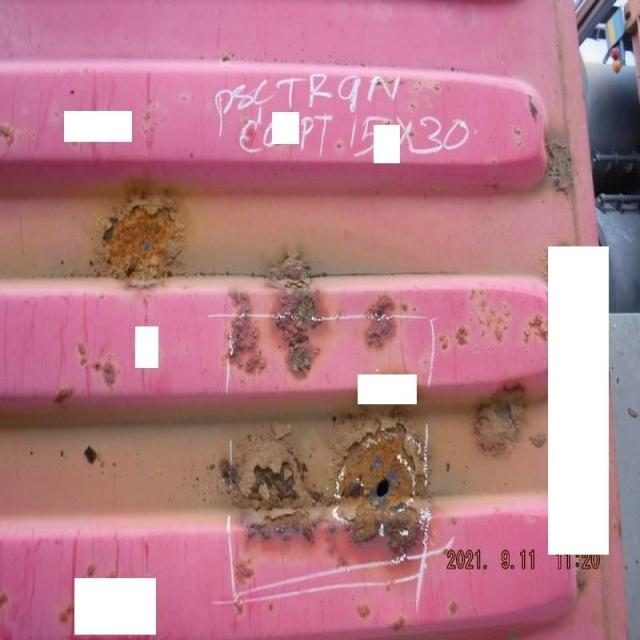rust: (329, 421, 428, 555), (239, 438, 325, 545), (100, 196, 186, 287), (474, 381, 531, 459), (276, 294, 324, 379), (224, 288, 269, 376), (544, 141, 575, 203), (366, 297, 398, 350), (273, 249, 313, 291)
